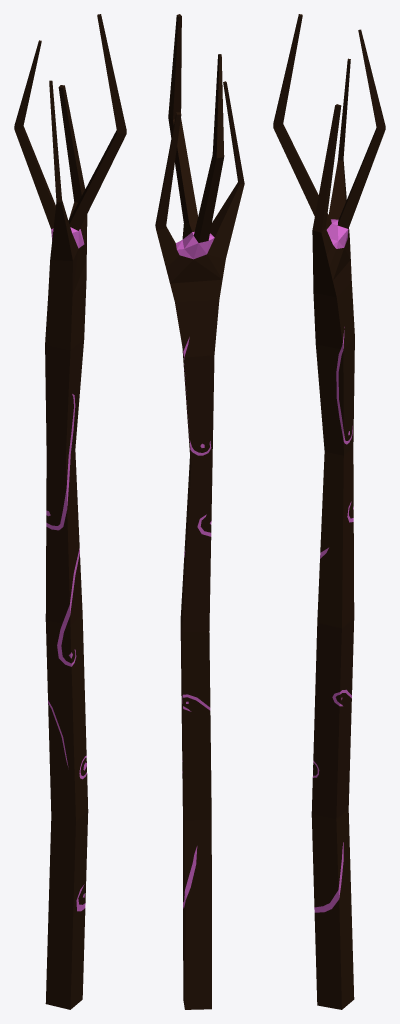
File: FaeStaff.obj
3 views of the same model, side by side, from view 1: azimuth 90°, elevation 25°; view 2: azimuth 210°, elevation 25°; view 3: azimuth 270°, elevation 25° (orthographic).
Parts seen in each view (by area): view 1: Cube.002; view 2: Cube.002; view 3: Cube.002.
Part boxes in pixels (x1,y1,x2,y2): Cube.002: (14, 14, 126, 1009); Cube.002: (155, 14, 244, 1009); Cube.002: (273, 14, 385, 1009).
Size of the model in its own units: 0.1562 by 1.87 by 0.1926.
